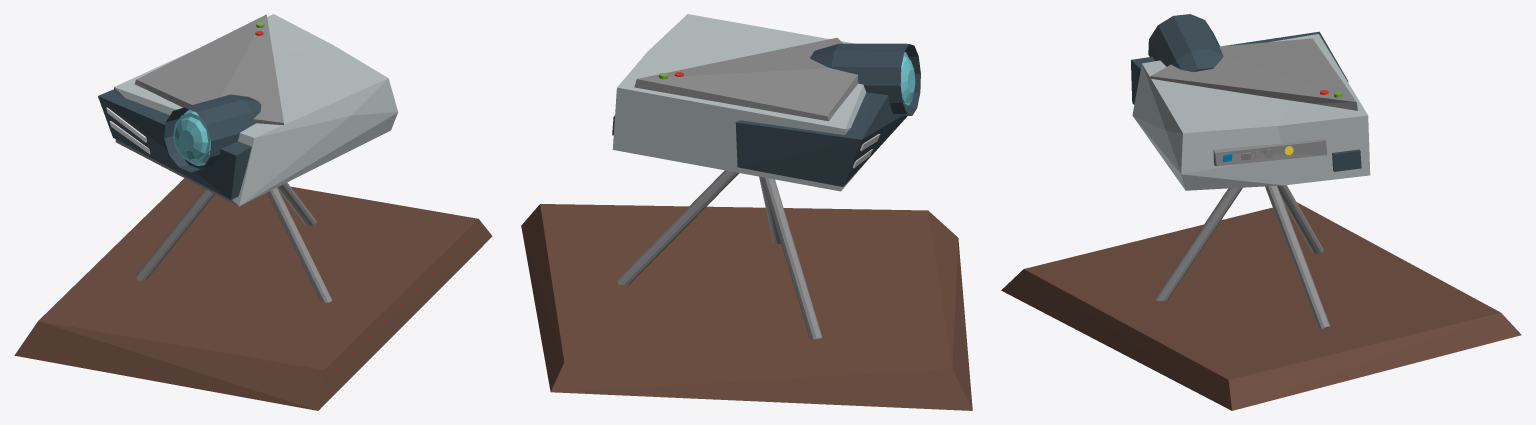
Rendered from Projecter.fbx.
The picture shows the model from 3 angles, left to right: view 1: azimuth 30°, elevation 25°; view 2: azimuth 150°, elevation 25°; view 3: azimuth 270°, elevation 25°; orthographic projection. The views are drawn at different scales.
Parts seen in each view (by area): view 1: mesh1494561713; view 2: mesh1494561713; view 3: mesh1494561713.
Boxes of the visible parts, bbox=[...] form: mesh1494561713: bbox=[14, 14, 492, 410]; mesh1494561713: bbox=[521, 14, 972, 410]; mesh1494561713: bbox=[1001, 14, 1521, 410].
Bounding box in the file's own units: 8.47 × 4.72 × 8.32.
